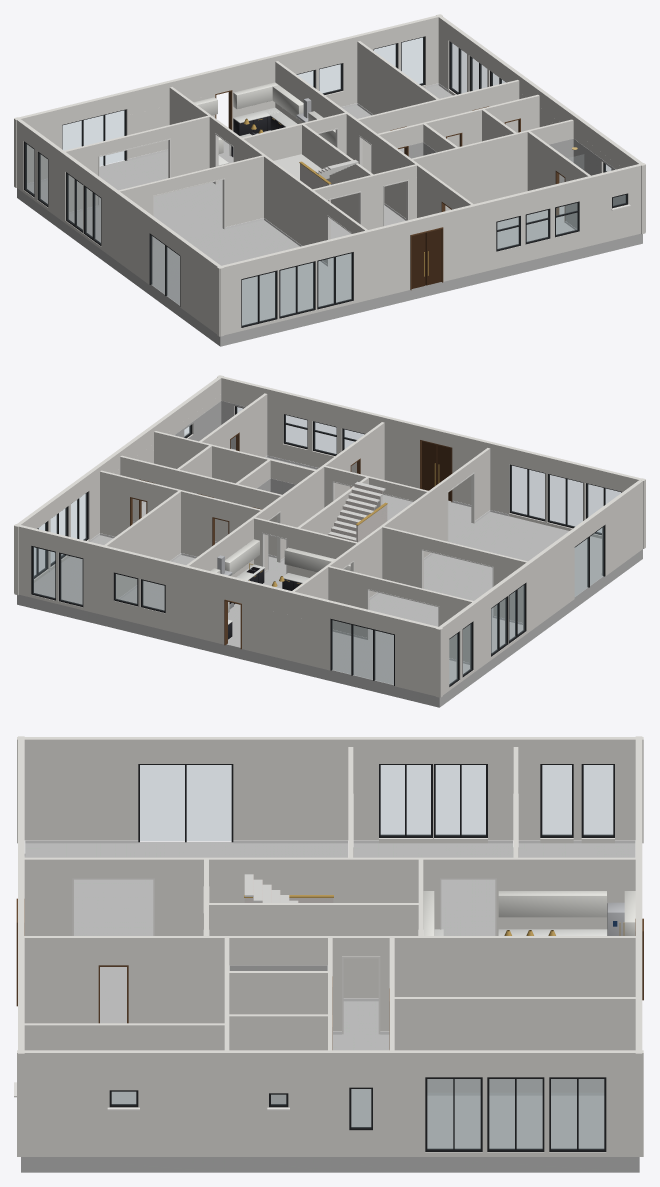
The model's file is int_est_S3_0.glb.
3 views of the same model, one above another, from view 1: azimuth 30°, elevation 25°; view 2: azimuth 150°, elevation 25°; view 3: azimuth 270°, elevation 25° (orthographic). The views are drawn at different scales.
Parts seen in each view (by area): view 1: ROOM, WALL_0, WALL_9, WALL_4, WALL_1, WALL_10, WALL_12, WALL_2, WALL_8, WALL_3, WALL_16, WALL_13 (+7 smaller); view 2: ROOM, WALL_9, WALL_0, WALL_4, WALL_1, WALL_12, WALL_2, WALL_16, WALL_3, WALL_10, WALL_8, WALL_13 (+7 smaller); view 3: WALL_4, WALL_12, ROOM, WALL_2, WALL_1, WALL_17, WALL_10, WALL_7, WALL_11, WALL_14, WALL_15, WALL_9 (+4 smaller).
Part boxes in pixels (x1=…): ROOM: x1=17, y1=82, x2=642, y2=346; WALL_0: x1=217, y1=163, x2=645, y2=336; WALL_9: x1=14, y1=14, x2=442, y2=187; WALL_4: x1=14, y1=117, x2=223, y2=336; WALL_1: x1=126, y1=87, x2=367, y2=266; WALL_10: x1=412, y1=92, x2=645, y2=230; WALL_12: x1=436, y1=14, x2=645, y2=233; WALL_2: x1=275, y1=61, x2=473, y2=219; WALL_8: x1=64, y1=115, x2=210, y2=211; WALL_3: x1=118, y1=155, x2=264, y2=246; WALL_16: x1=357, y1=80, x2=519, y2=172; WALL_13: x1=378, y1=94, x2=539, y2=156; ROOM: x1=17, y1=401, x2=642, y2=707; WALL_9: x1=14, y1=524, x2=442, y2=697; WALL_0: x1=217, y1=375, x2=645, y2=548; WALL_4: x1=436, y1=478, x2=645, y2=697; WALL_1: x1=242, y1=448, x2=490, y2=670; WALL_12: x1=14, y1=375, x2=223, y2=594; WALL_2: x1=186, y1=422, x2=384, y2=577; WALL_16: x1=100, y1=470, x2=261, y2=556; WALL_3: x1=381, y1=526, x2=527, y2=622; WALL_10: x1=88, y1=394, x2=315, y2=539; WALL_8: x1=327, y1=565, x2=473, y2=662; WALL_13: x1=120, y1=455, x2=281, y2=556; WALL_4: x1=17, y1=737, x2=643, y2=843; WALL_12: x1=17, y1=1050, x2=643, y2=1156; ROOM: x1=21, y1=840, x2=639, y2=1172; WALL_2: x1=24, y1=936, x2=635, y2=1034; WALL_1: x1=24, y1=857, x2=635, y2=935; WALL_17: x1=394, y1=997, x2=635, y2=1092; WALL_10: x1=17, y1=938, x2=425, y2=1152; WALL_7: x1=209, y1=903, x2=418, y2=998; WALL_11: x1=24, y1=1023, x2=224, y2=1050; WALL_14: x1=229, y1=971, x2=330, y2=1014; WALL_15: x1=229, y1=1014, x2=330, y2=1103; WALL_9: x1=635, y1=736, x2=643, y2=1156.
Size of the model in its own units: 23.81 by 4.2 by 19.91.
16 materials, 1 textured.
